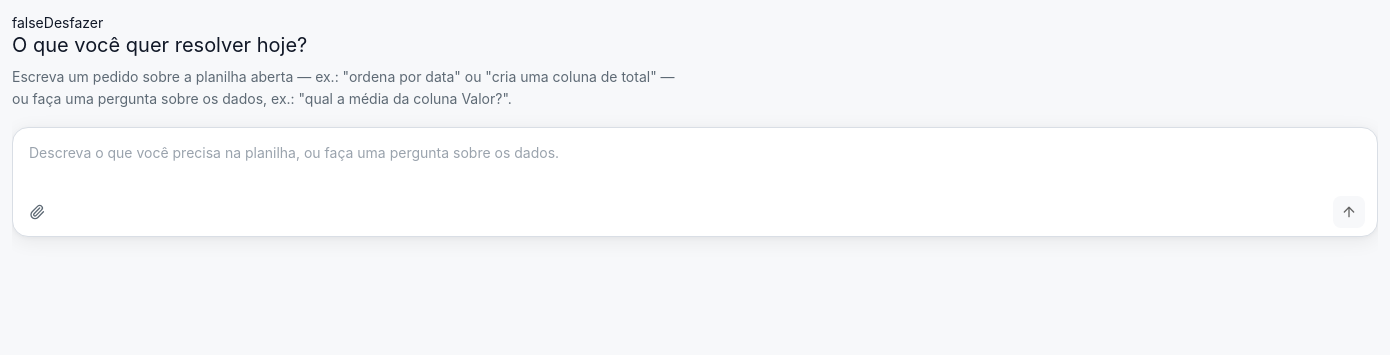
Test: UnifiedChatTool › shows intent_detected before the final payload arrives
Type "Some a coluna A" into the text box named "Pedido" at (695, 158), box [13,128,1377,188]
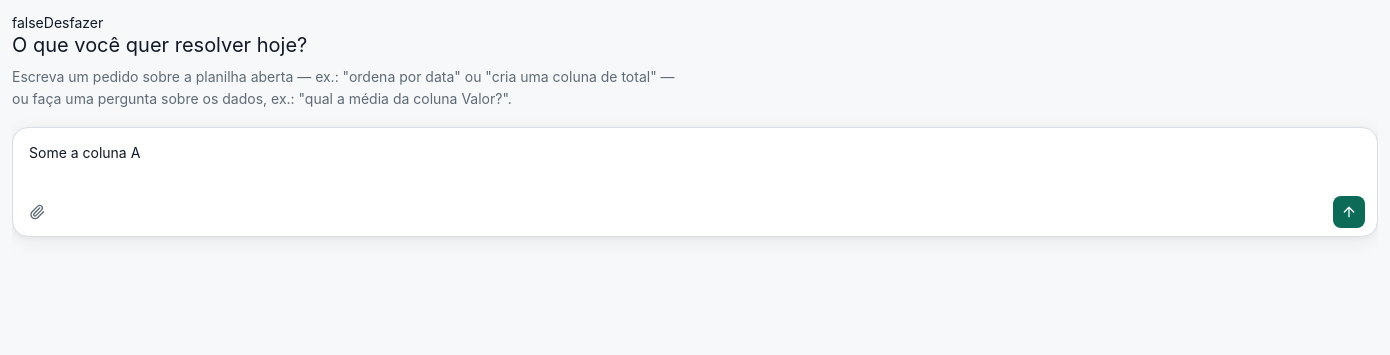
Click the button named "Enviar" at (1349, 212), box [1333,196,1365,228]
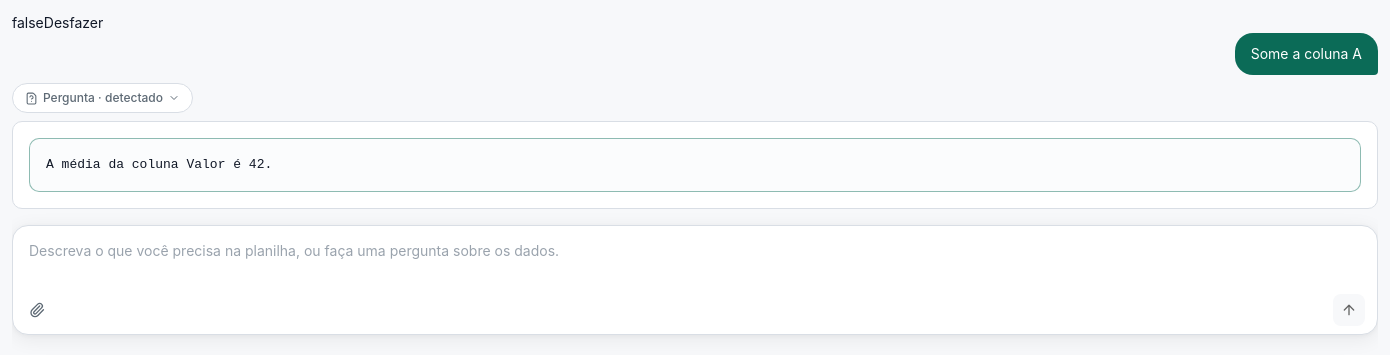
Check: the button "Pergunta · detectado" is shown, box [12,83,193,113]
Check: the text "A média da coluna Valor é 42." is shown, box [46,157,272,172]
